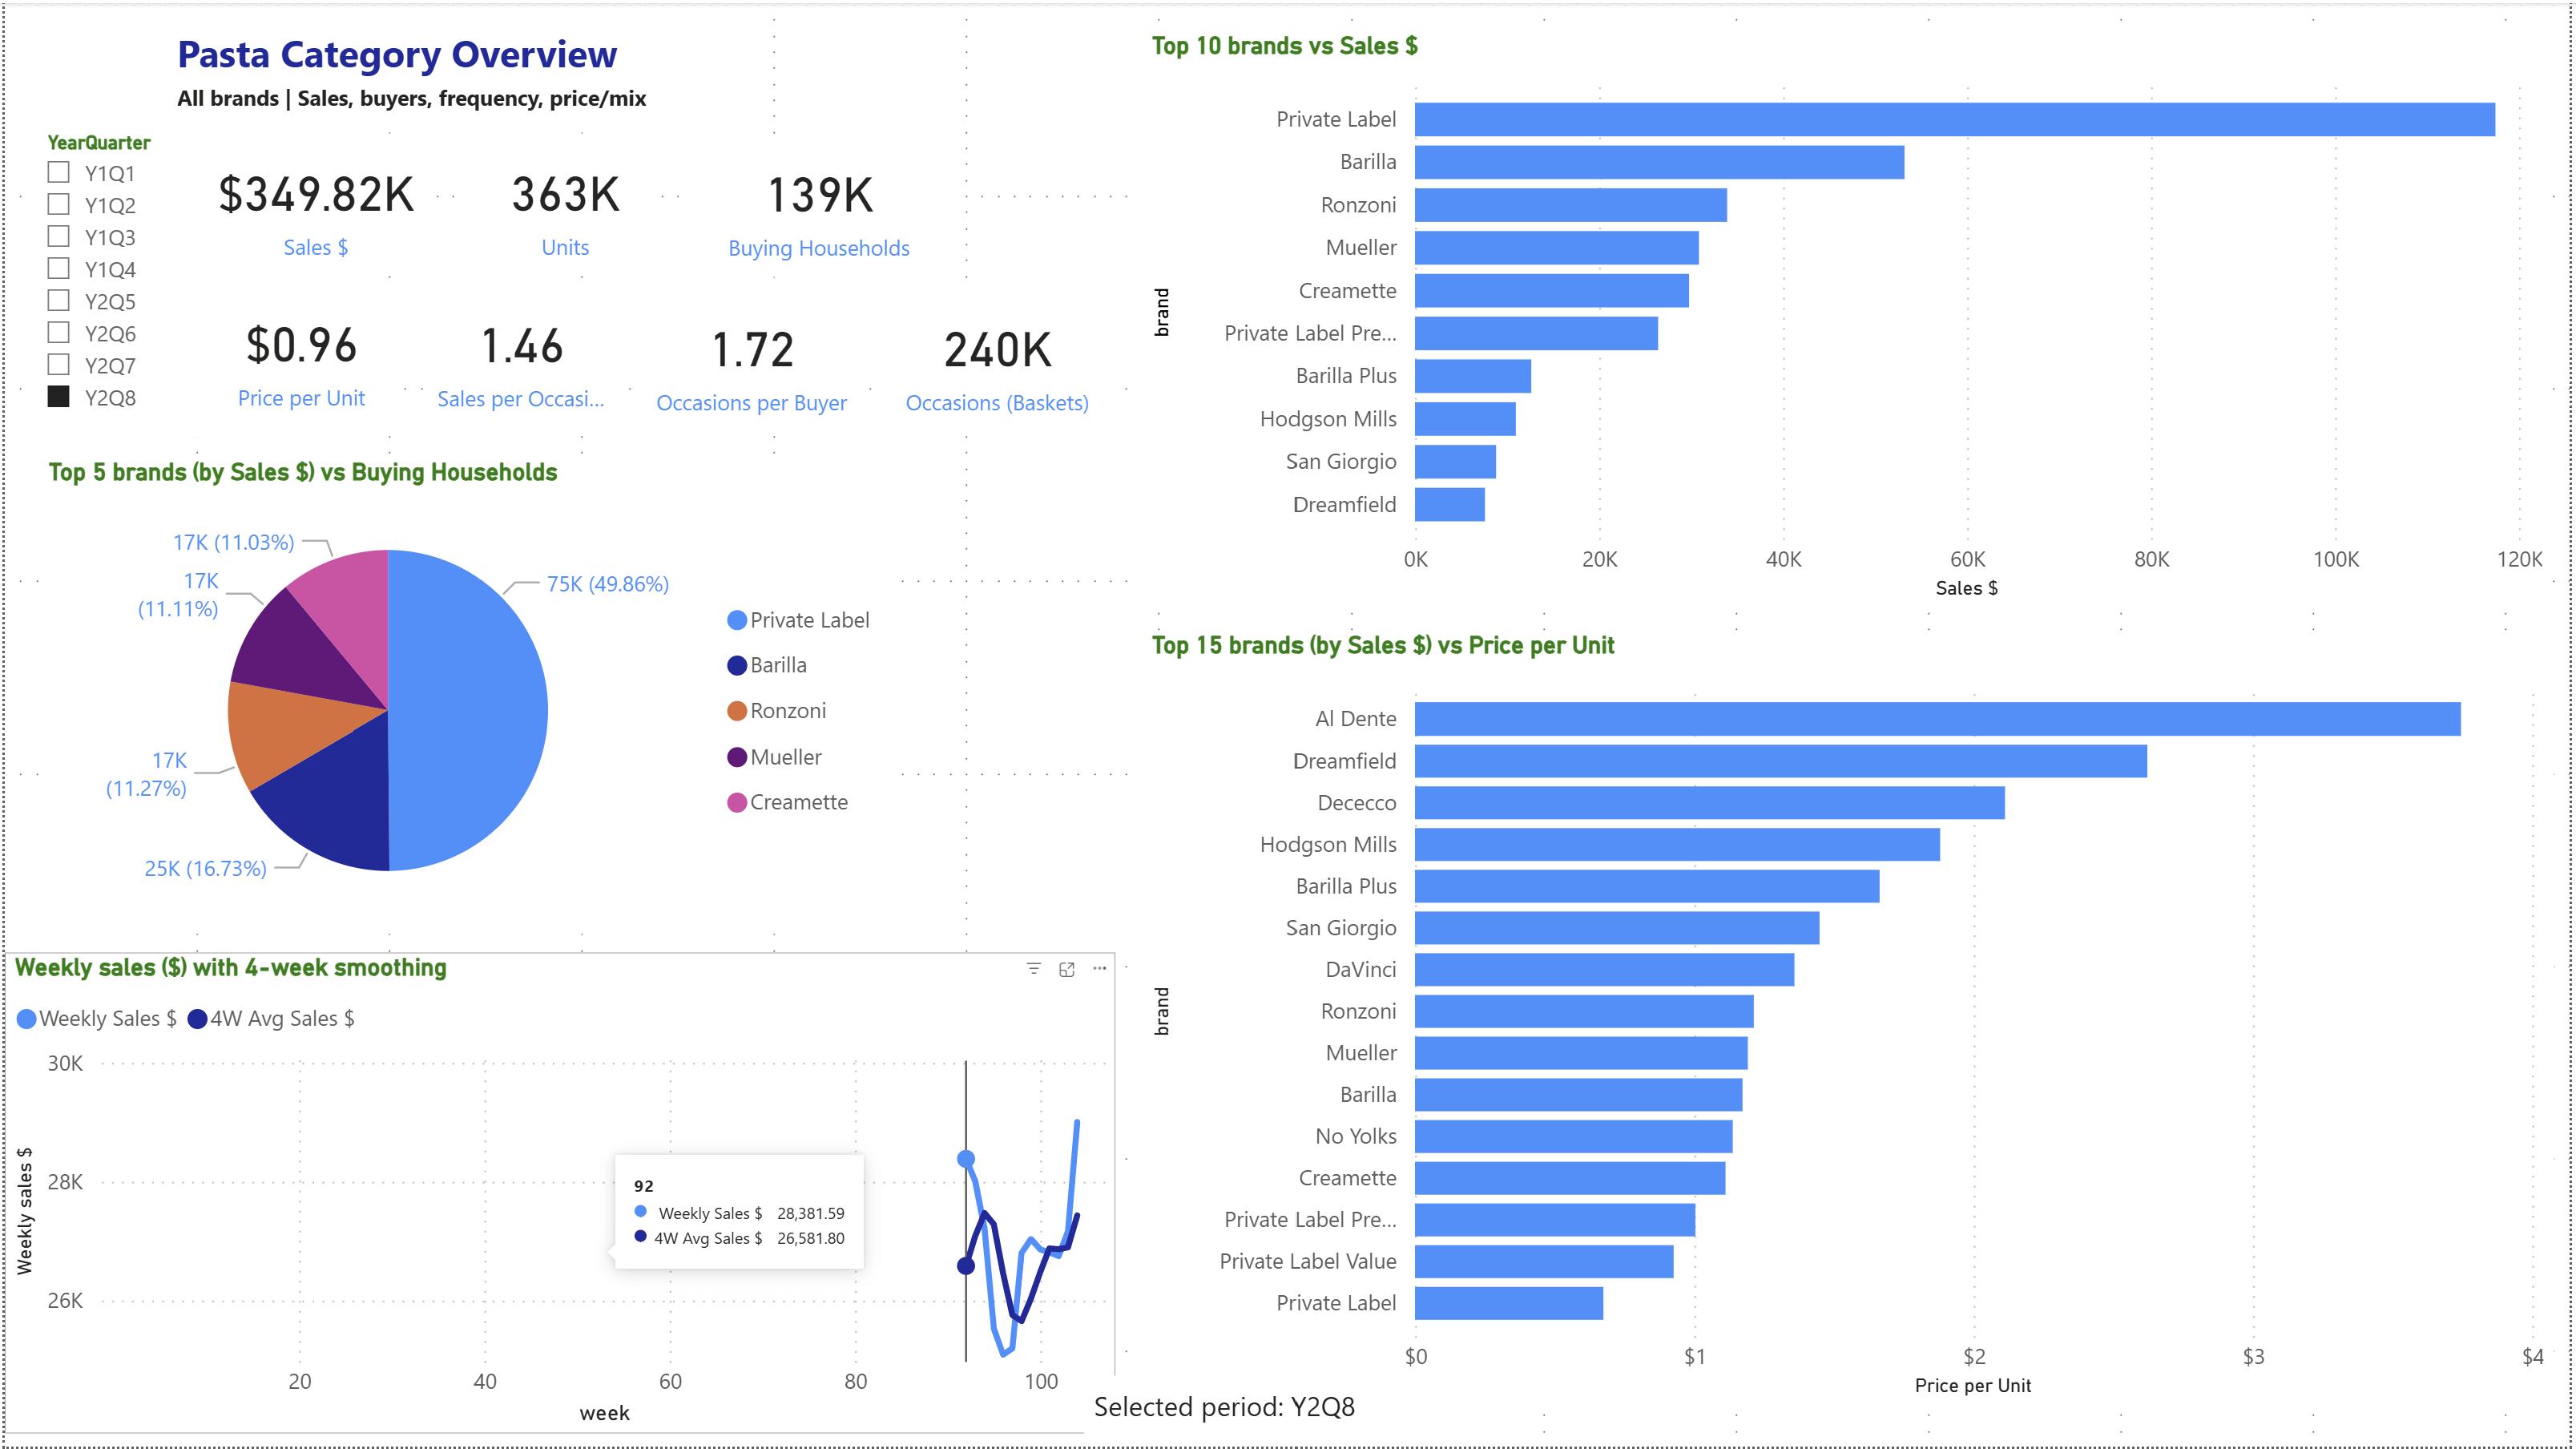

Layout of this report page (visuals, bound fields, positions):
{"tool":"powerbi","page":{"name":"01 Category Overview","canvas":[1280,720],"ordinal":0},"visuals":[{"type":"slicer","fields":{"Values":["DimDay.YearQuarter"]},"box":[8.4,58.8,91.8,157.8],"z":0},{"type":"card","fields":{"Values":["zz_Measures.Sales $"]},"box":[100.2,66,109.8,69.6],"z":1000},{"type":"card","fields":{"Values":["zz_Measures.Units"]},"box":[231.6,66,96,69.6],"z":2000},{"type":"card","fields":{"Values":["zz_Measures.Price per Unit"]},"box":[100,141,95.3,70],"z":3000},{"type":"card","fields":{"Values":["zz_Measures.Buyers (HH)"]},"box":[336.6,66,139.2,70.8],"z":4000},{"type":"card","fields":{"Values":["zz_Measures.Frequency (Occasions per Buyer)"]},"box":[316,143.3,112.7,70],"z":5000},{"type":"card","fields":{"Values":["zz_Measures.Sales per Occasion"]},"box":[209.3,141.7,96,70],"z":6000},{"type":"lineChart","title":"Weekly sales ($) with 4-week smoothing","fields":{"Y":["zz_Measures.Weekly Sales $","zz_Measures.Sales $ (4W Avg)"],"Category":["DimDay.week"]},"box":[0,473.3,554.7,240],"z":7000},{"type":"clusteredBarChart","title":"Top 10 brands vs Sales $","fields":{"Category":["DimProduct.brand"],"Y":["zz_Measures.Sales $"]},"box":[567.6,13.8,703.8,288],"z":8000},{"type":"clusteredBarChart","title":"Top 15 brands (by Sales $) vs Price per Unit","fields":{"Category":["DimProduct.brand"],"Y":["zz_Measures.Price per Unit"]},"box":[567.6,313.2,704.4,386.4],"z":9000},{"type":"pieChart","title":"Top 5 brands (by Sales $) vs Buying Households","fields":{"Category":["DimProduct.brand"],"Y":["zz_Measures.Buying Households"]},"box":[16.7,226.7,429.3,237.3],"z":10000},{"type":"card","fields":{"Values":["zz_Measures.Occasions (Baskets)"]},"box":[435.3,143.3,119.3,70],"z":11000},{"type":"textbox","box":[538.8,684.6,141,30.6],"z":12000},{"type":"textbox","box":[81,6.6,300.6,58.2],"z":13000}]}

Visuals, with their boxes in screenshot pixels (x1, y1, x2, y2), scaled from the page's 1280x720 canvas onto the 2576x1449 screenshot:
slicer - DimDay.YearQuarter: {"left": 17, "top": 119, "right": 202, "bottom": 436}
card - zz_Measures.Sales $: {"left": 202, "top": 133, "right": 422, "bottom": 273}
card - zz_Measures.Units: {"left": 466, "top": 133, "right": 659, "bottom": 273}
card - zz_Measures.Price per Unit: {"left": 201, "top": 284, "right": 393, "bottom": 425}
card - zz_Measures.Buyers (HH): {"left": 677, "top": 133, "right": 957, "bottom": 276}
card - zz_Measures.Frequency (Occasions per Buyer): {"left": 636, "top": 289, "right": 863, "bottom": 430}
card - zz_Measures.Sales per Occasion: {"left": 421, "top": 285, "right": 615, "bottom": 426}
"Weekly sales ($) with 4-week smoothing" lineChart: {"left": 0, "top": 953, "right": 1116, "bottom": 1435}
"Top 10 brands vs Sales $" clusteredBarChart: {"left": 1143, "top": 28, "right": 2558, "bottom": 607}
"Top 15 brands (by Sales $) vs Price per Unit" clusteredBarChart: {"left": 1143, "top": 630, "right": 2560, "bottom": 1408}
"Top 5 brands (by Sales $) vs Buying Households" pieChart: {"left": 34, "top": 456, "right": 897, "bottom": 934}
card - zz_Measures.Occasions (Baskets): {"left": 876, "top": 289, "right": 1116, "bottom": 430}
textbox: {"left": 1084, "top": 1378, "right": 1368, "bottom": 1439}
textbox: {"left": 163, "top": 14, "right": 768, "bottom": 131}
